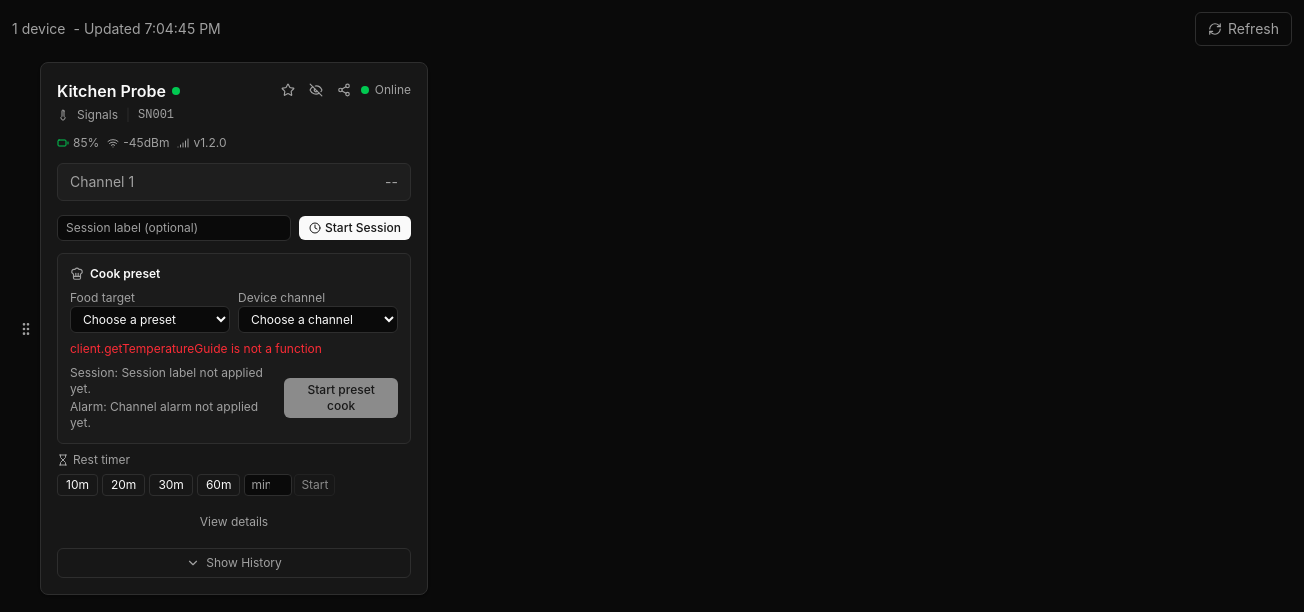
DeviceList visibility › clicking favorite button toggles favorite aria-label
What coordinates should you click on to do the following:
click the button named "Add Kitchen Probe to favorites"
I would click on:
 (288, 90)
Its box is [277,79,299,101].
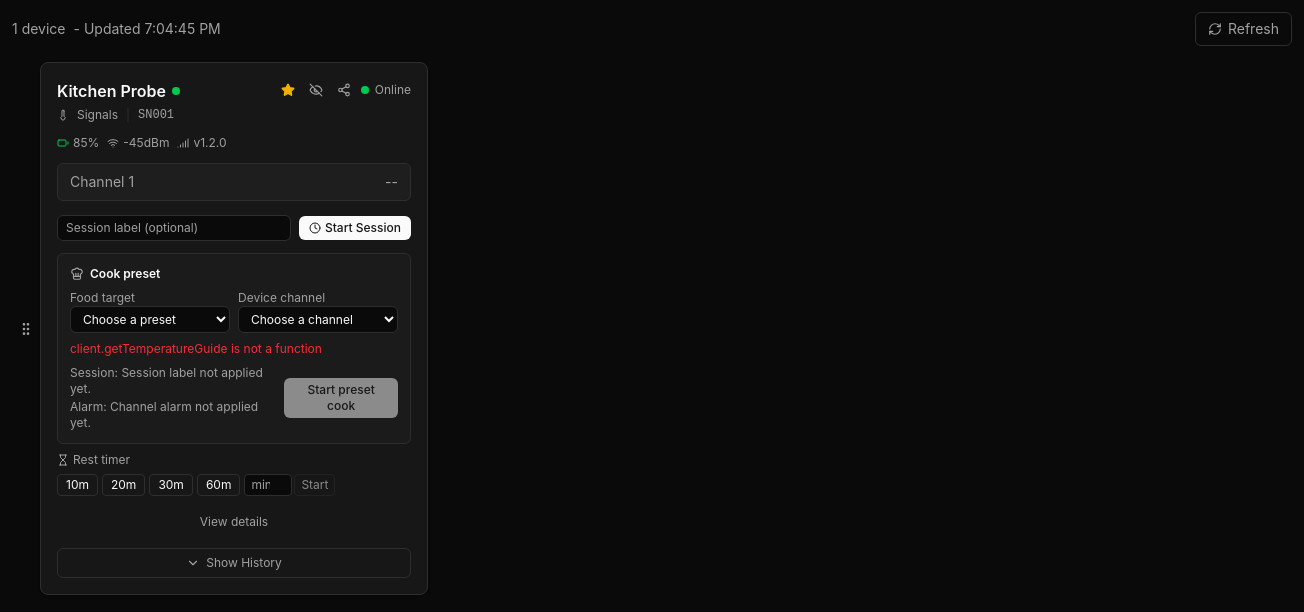
Check: the button named "Remove Kitchen Probe from favorites" is shown, box [277,79,299,101]
